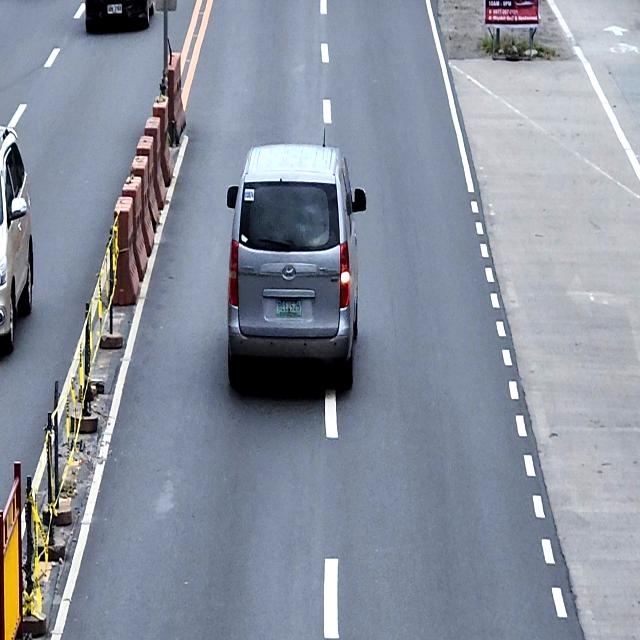Car: (226, 142, 366, 389), (0, 124, 34, 353), (84, 0, 154, 33)
License-Plate: (275, 296, 302, 318), (107, 4, 123, 15)
